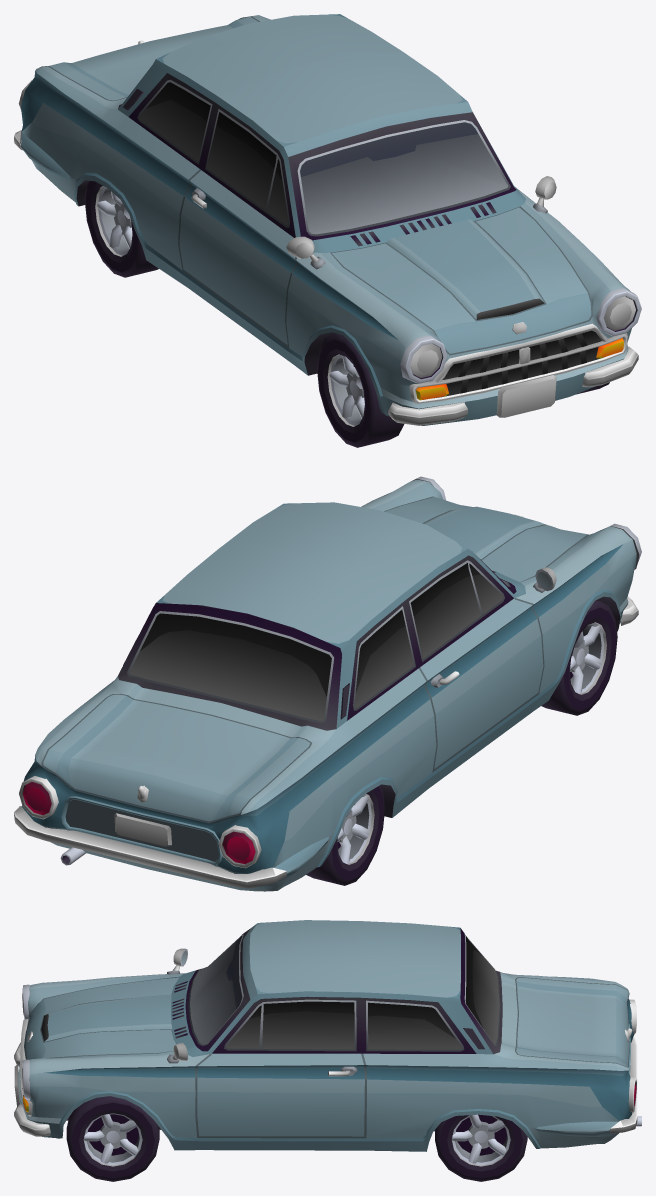
File: Fortina.fbx
The picture shows the model from 3 angles, top to bottom: view 1: azimuth 30°, elevation 25°; view 2: azimuth 150°, elevation 25°; view 3: azimuth 270°, elevation 25°; orthographic projection. The views are drawn at different scales.
Visible parts, largest first — view 1: Fortina Body, FortinaFR Wheel, FortinaRR Wheel; view 2: Fortina Body, FortinaFR Wheel, FortinaRR Wheel; view 3: Fortina Body, Fortina FL Wheel, Fortina RL Wheel.
Part boxes in pixels (box(x1,y1,x2,y2)): Fortina Body: box(14, 14, 641, 425); FortinaFR Wheel: box(317, 333, 404, 447); FortinaRR Wheel: box(84, 181, 158, 277); Fortina Body: box(14, 476, 641, 891); FortinaFR Wheel: box(541, 600, 617, 715); FortinaRR Wheel: box(306, 785, 385, 885); Fortina Body: box(14, 920, 641, 1151); Fortina FL Wheel: box(66, 1096, 159, 1181); Fortina RL Wheel: box(435, 1114, 527, 1181).
Bounding box in the file's own units: 203 × 172 × 516.
